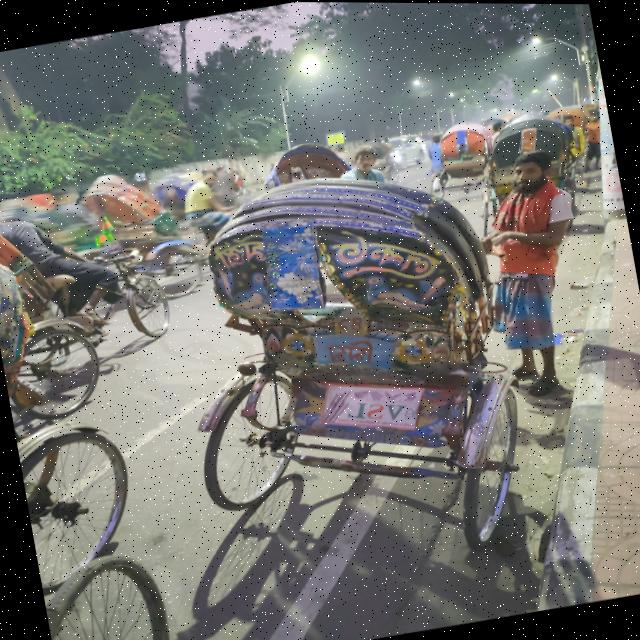rikshaw: (184, 137, 540, 595), (0, 169, 174, 443)
